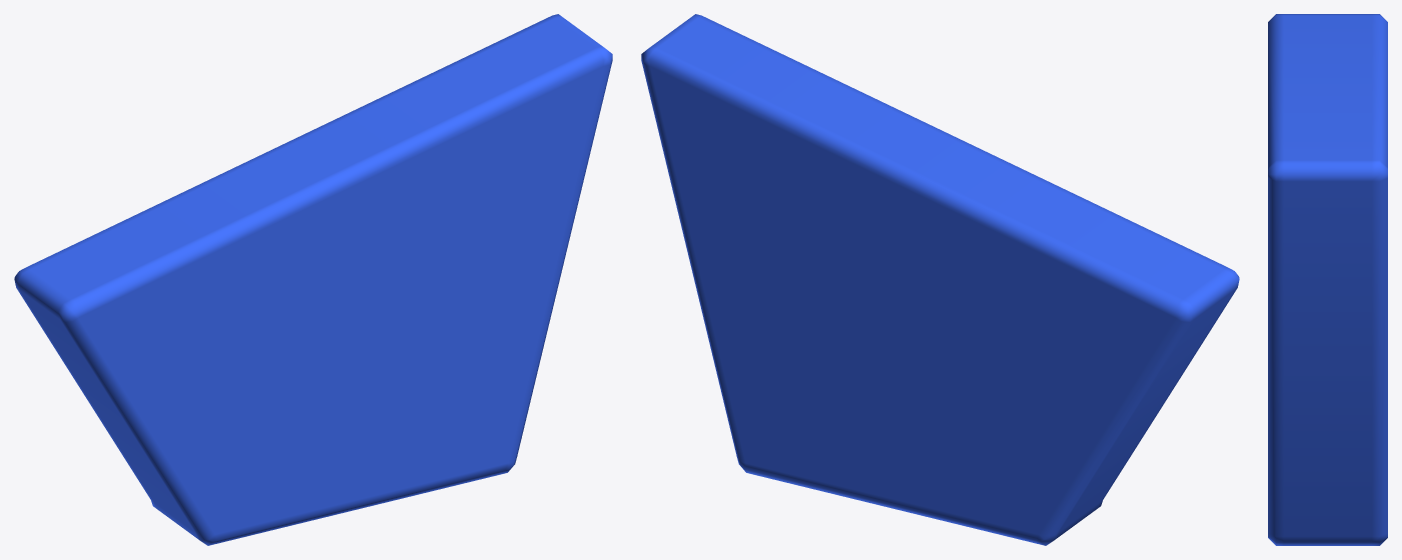
File: handl.obj
The picture shows the model from 3 angles, left to right: view 1: azimuth 30°, elevation 25°; view 2: azimuth 150°, elevation 25°; view 3: azimuth 270°, elevation 25°; orthographic projection. The views are drawn at different scales.
Visible parts, largest first — view 1: handl.obj; view 2: handl.obj; view 3: handl.obj.
Part boxes in pixels (bbox=[...]): handl.obj: bbox=[14, 14, 612, 545]; handl.obj: bbox=[641, 14, 1239, 545]; handl.obj: bbox=[1268, 14, 1387, 545].
Bounding box in the file's own units: 0.8644 × 0.6 × 0.15.
